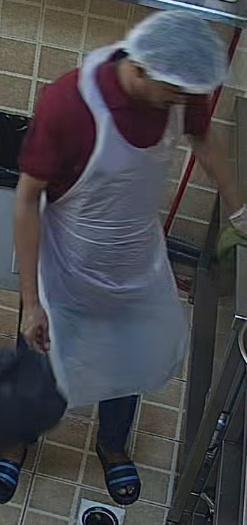apron: (34, 34, 224, 320)
